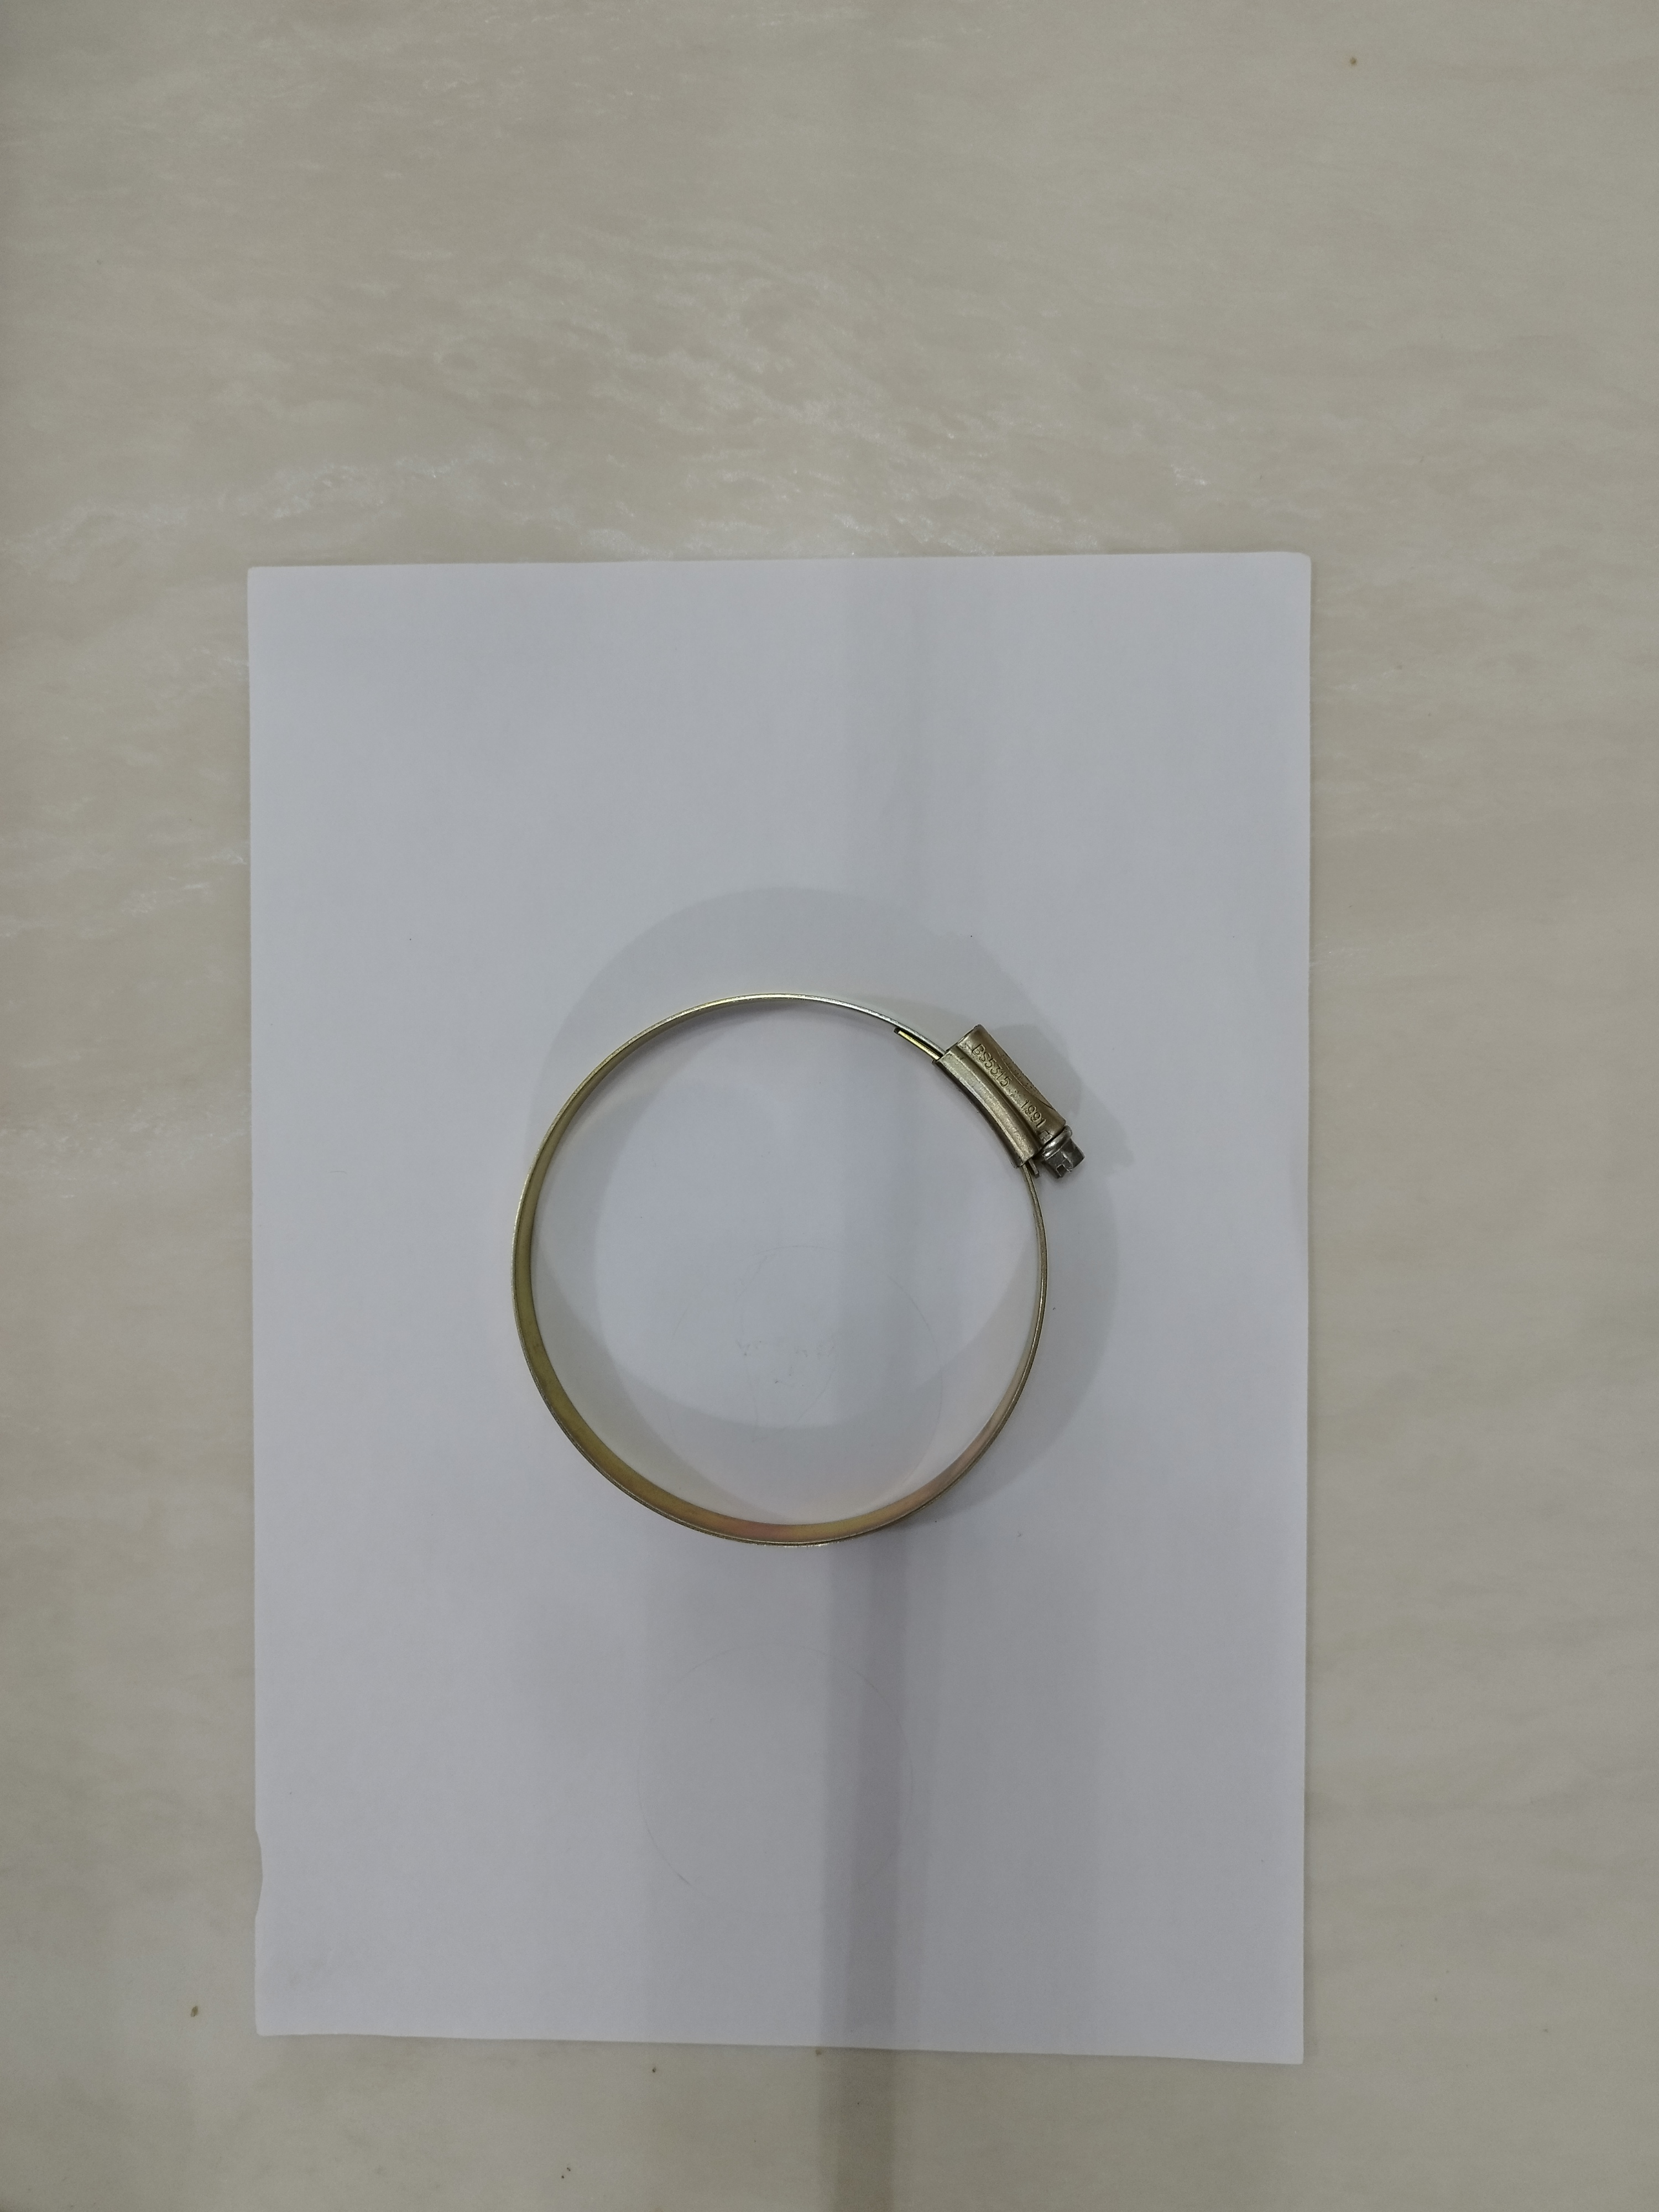ring_clamp: (484, 984, 1093, 1561)
